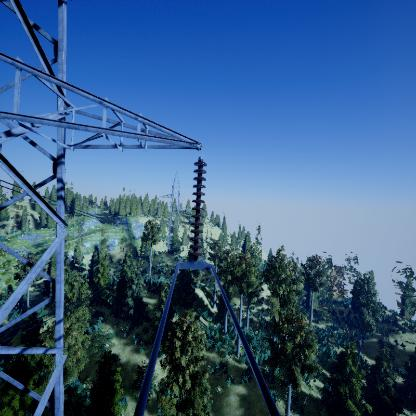insulator: (186, 160, 209, 261)
